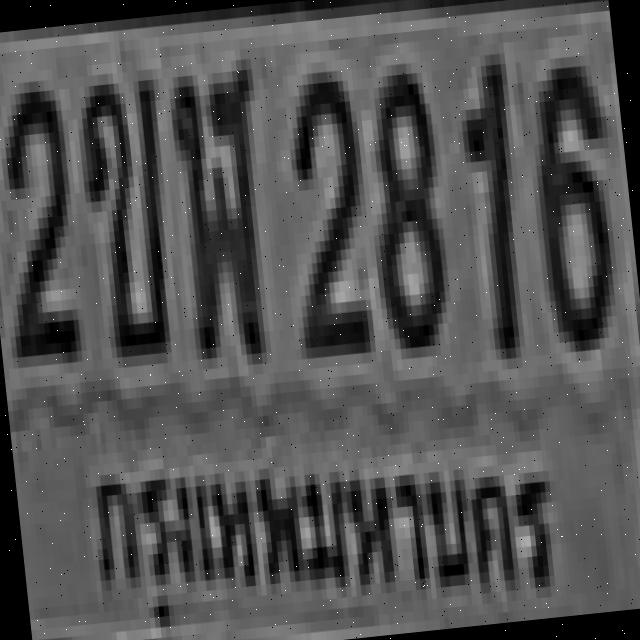1: (449, 47, 529, 346)
11KhorKhai: (72, 70, 176, 348)
2: (271, 59, 375, 348), (0, 68, 81, 357)
51LorChula: (160, 53, 276, 354)
6: (519, 49, 618, 338)
8: (356, 62, 449, 340)
Bangkok: (67, 373, 573, 640)
